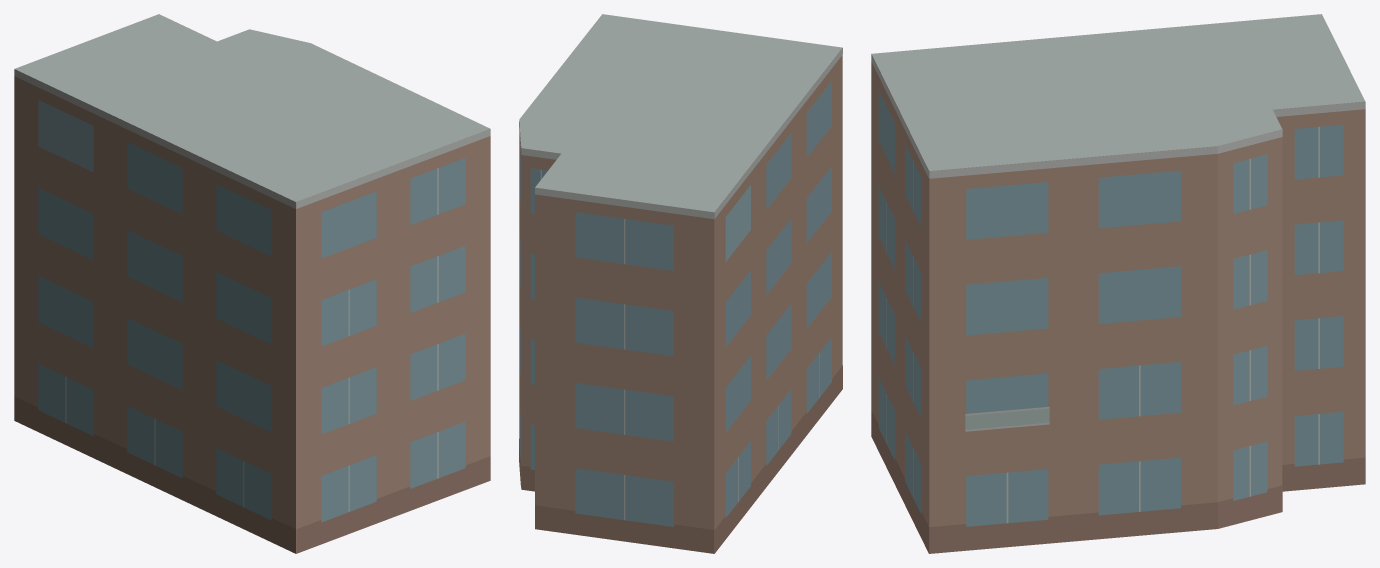
Rendered from survey-upis-32674378.glb.
3 views of the same model, side by side, from view 1: azimuth 30°, elevation 25°; view 2: azimuth 150°, elevation 25°; view 3: azimuth 270°, elevation 25° (orthographic). The views are drawn at different scales.
Visible parts, largest first — view 1: survey-upis-32674378.tmp; view 2: survey-upis-32674378.tmp; view 3: survey-upis-32674378.tmp.
Boxes of the visible parts, x1,y1,x2,y2 form: survey-upis-32674378.tmp: (14,14,490,553); survey-upis-32674378.tmp: (519,14,842,553); survey-upis-32674378.tmp: (871,14,1365,553).
Size of the model in its own units: 10.75 by 12.2 by 14.28.
